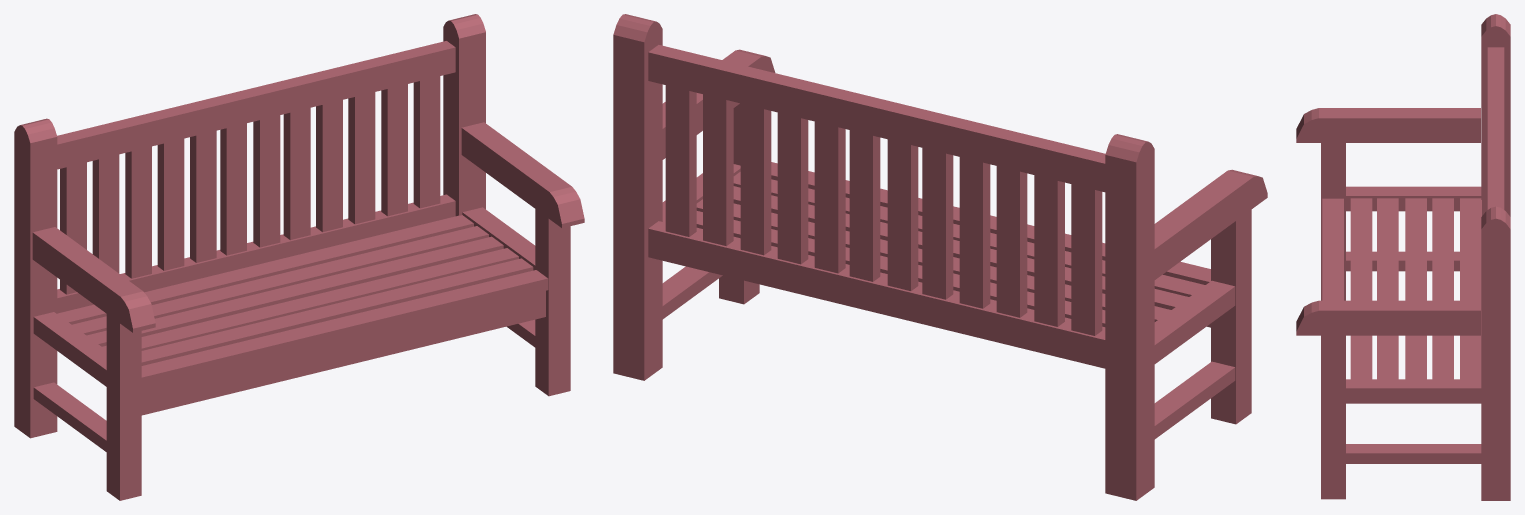
The model's file is bench.glb.
3 views of the same model, side by side, from view 1: azimuth 30°, elevation 25°; view 2: azimuth 150°, elevation 25°; view 3: azimuth 270°, elevation 25° (orthographic). The views are drawn at different scales.
Parts seen in each view (by area): view 1: Cube; view 2: Cube; view 3: Cube.
Boxes of the visible parts, x1,y1,x2,y2 form: Cube: [14, 14, 584, 500]; Cube: [613, 14, 1267, 500]; Cube: [1296, 14, 1510, 500].
Bounding box in the file's own units: 1.96 × 1.26 × 0.8684.
